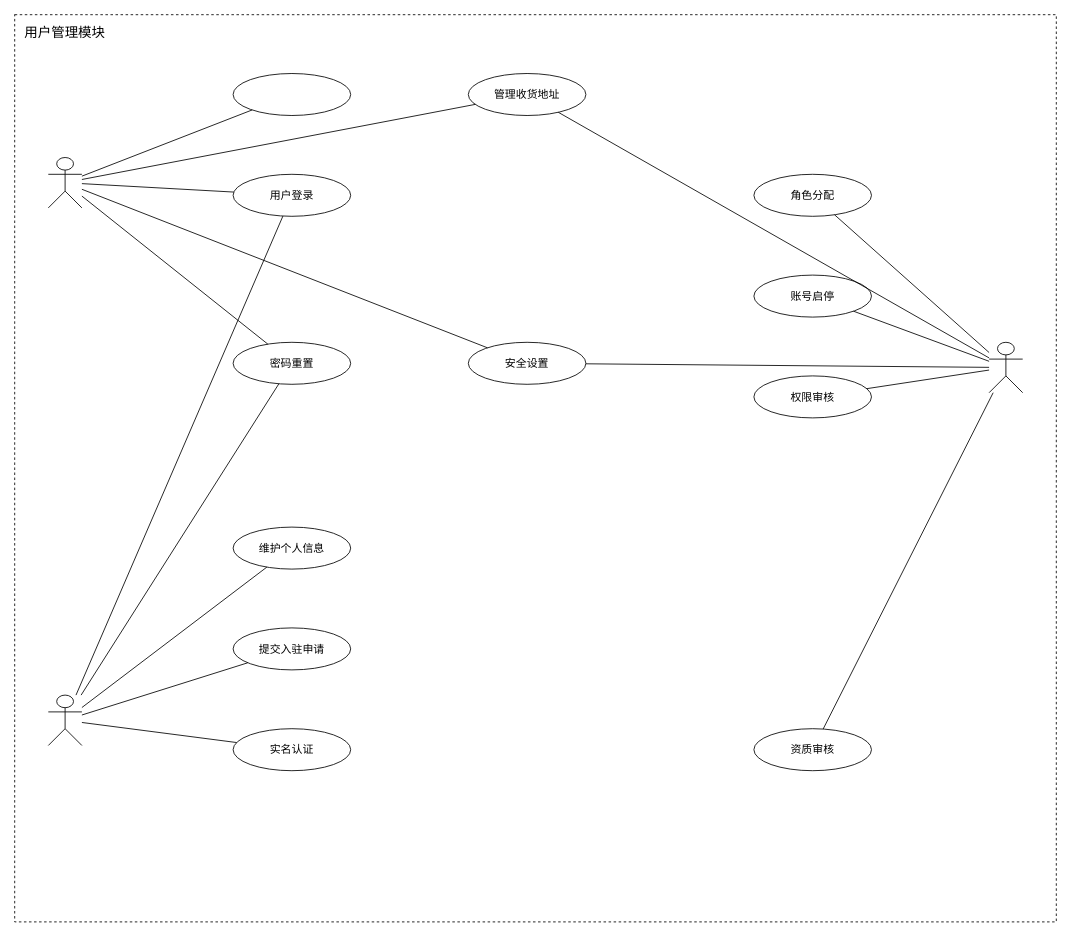
Some shapes in this 1071 by 937 pixel diagram are drawn without their labels. Each missing label, with the centre of its shape:
"买家" goes at [64,182].
"商家" goes at [64,720].
"注册账号" goes at [291,94].
"管理员" goes at [1005,367].
